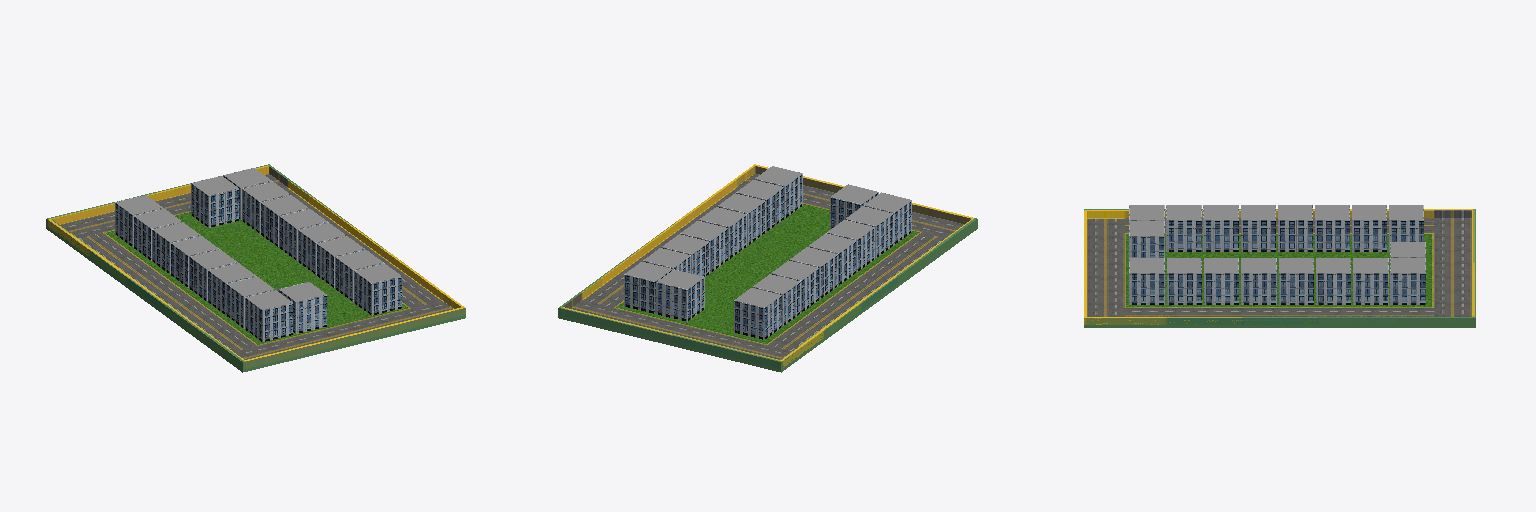
3 renders of one model, left to right at view 1: azimuth 30°, elevation 25°; view 2: azimuth 150°, elevation 25°; view 3: azimuth 270°, elevation 25°, orthographic.
Visible parts, largest first — view 1: ground1:pCube1, pCube10, pCube8, pCube18, pCube9, pCube13, pCube14, pCube16, pCube3, pCube11, pCube5, pCube7 (+7 smaller); view 2: ground1:pCube1, pCube18, pCube1, pCube17, pCube12, pCube13, pCube10, pCube7, pCube4, pCube2, pCube6, pCube11 (+7 smaller); view 3: ground1:pCube1, pCube6, pCube7, pCube10, pCube13, pCube17, pCube16, pCube3, pCube4, pCube2, pCube5, pCube11 (+7 smaller).
Part boxes in pixels (x1,y1,x2,y2): ground1:pCube1: (46, 164, 465, 372); pCube10: (354, 263, 401, 315); pCube8: (245, 290, 292, 341); pCube18: (191, 176, 238, 227); pCube9: (278, 282, 326, 333); pCube13: (298, 222, 345, 274); pCube14: (279, 209, 327, 260); pCube16: (242, 181, 289, 233); pCube3: (152, 222, 200, 273); pCube11: (335, 250, 383, 301); pCube5: (189, 249, 237, 300); pCube7: (226, 276, 274, 328); ground1:pCube1: (558, 164, 977, 372); pCube18: (656, 269, 704, 321); pCube1: (734, 288, 781, 339); pCube17: (624, 262, 672, 313); pCube12: (717, 193, 765, 245); pCube13: (699, 207, 746, 258); pCube10: (755, 166, 802, 217); pCube7: (845, 206, 893, 257); pCube4: (789, 247, 837, 298); pCube2: (752, 274, 800, 325); pCube6: (827, 220, 874, 271); pCube11: (736, 180, 783, 231); ground1:pCube1: (1084, 209, 1475, 327); pCube6: (1203, 205, 1238, 251); pCube7: (1166, 205, 1201, 251); pCube10: (1129, 258, 1164, 304); pCube13: (1241, 258, 1276, 304); pCube17: (1390, 258, 1425, 304); pCube16: (1353, 258, 1388, 304); pCube3: (1315, 205, 1349, 251); pCube4: (1278, 205, 1312, 251); pCube2: (1352, 205, 1386, 251); pCube5: (1241, 205, 1275, 251); pCube11: (1167, 258, 1201, 304).
Bounding box in the file's own units: 71.56 × 10.83 × 109.
2 materials, 2 textured.